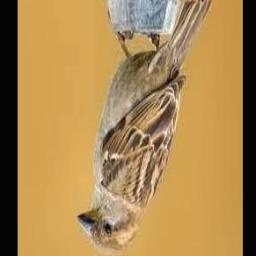Sparrow: (77, 0, 213, 255)
